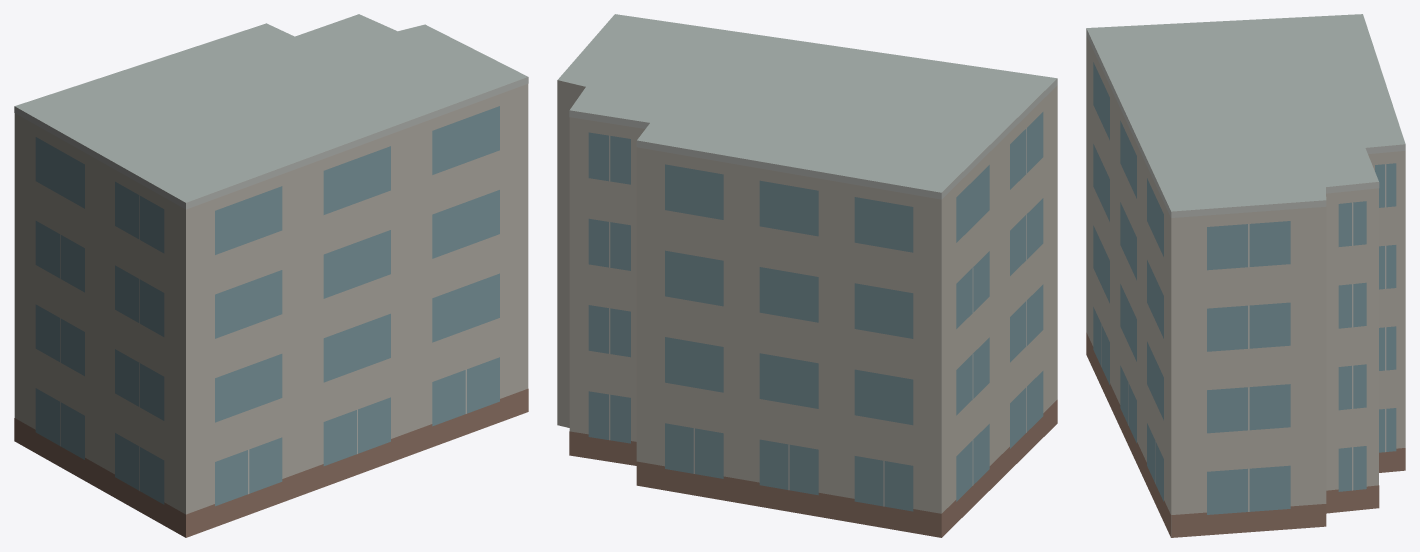
File: survey-upis-32753005.glb
3 views of the same model, side by side, from view 1: azimuth 30°, elevation 25°; view 2: azimuth 150°, elevation 25°; view 3: azimuth 270°, elevation 25° (orthographic). The views are drawn at different scales.
Parts seen in each view (by area): view 1: survey-upis-32753005.tmp; view 2: survey-upis-32753005.tmp; view 3: survey-upis-32753005.tmp.
Boxes of the visible parts, x1=… form: survey-upis-32753005.tmp: x1=14, y1=14, x2=528, y2=537; survey-upis-32753005.tmp: x1=557, y1=14, x2=1057, y2=537; survey-upis-32753005.tmp: x1=1086, y1=14, x2=1405, y2=537.
Size of the model in its own units: 15.85 by 12.2 by 10.83.
